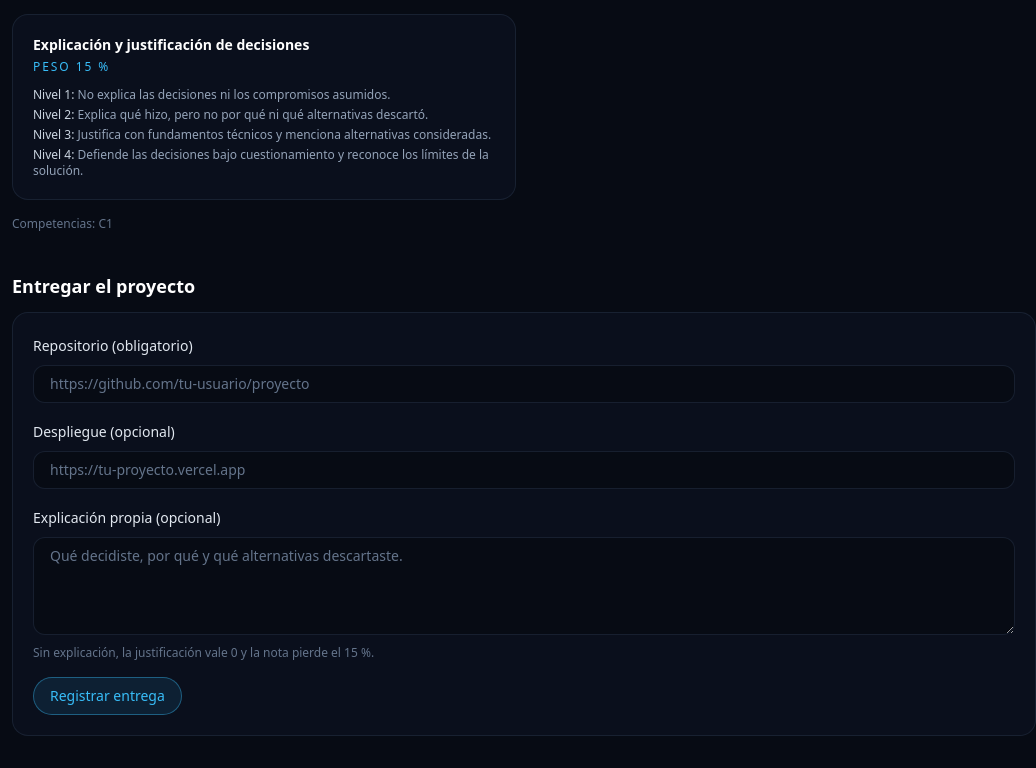
Test: ProjectWorkspace › pinta el error de campo que devuelve la API al entregar
The width and height of the screenshot is (1036, 768).
(page scrolled)
Type "ftp://ana" into the field labelled "Repositorio (obligatorio)" at (524, 384), box [33, 365, 1015, 403]
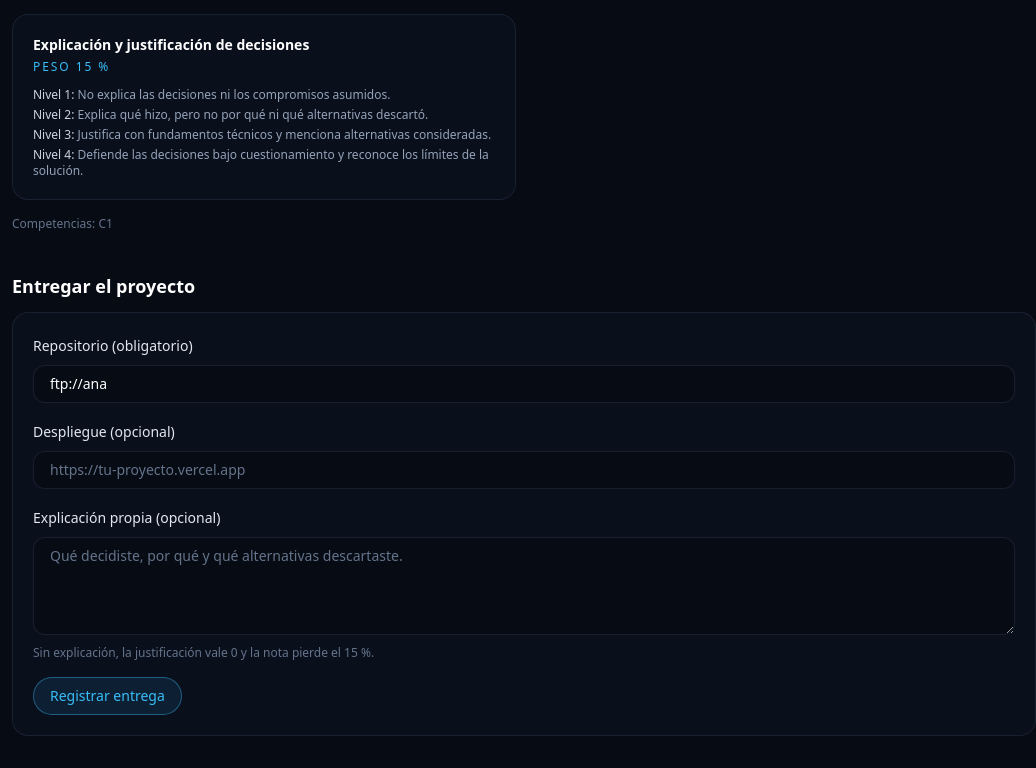
Click the button "Registrar entrega" at (107, 696), box [33, 677, 182, 715]
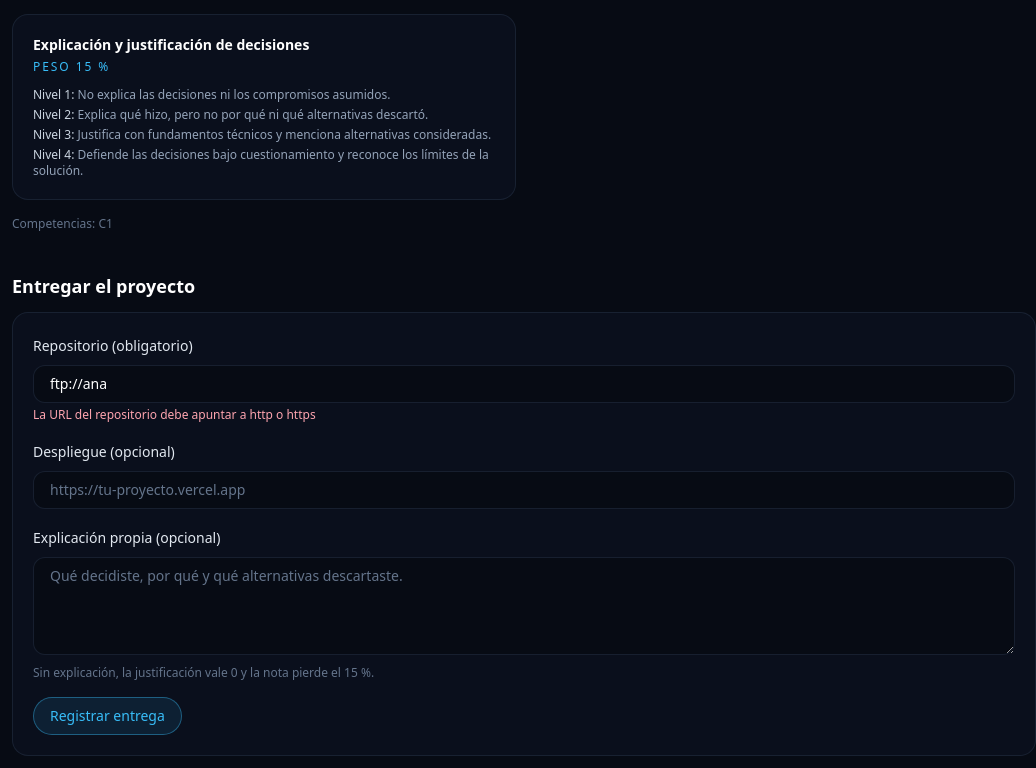
expect the text "La URL del repositorio debe apuntar a http o https" is shown: met, box [33, 406, 316, 423]
